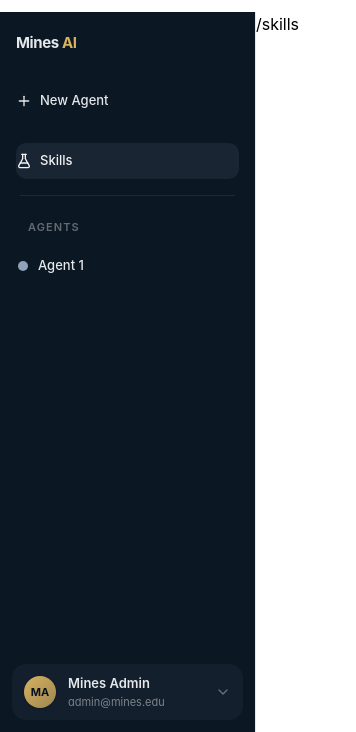
Test: AppSidebar › creates an agent and navigates to it
Click the button "New Agent".
click(128, 100)  # box top-left (16, 82), bottom-right (239, 118)
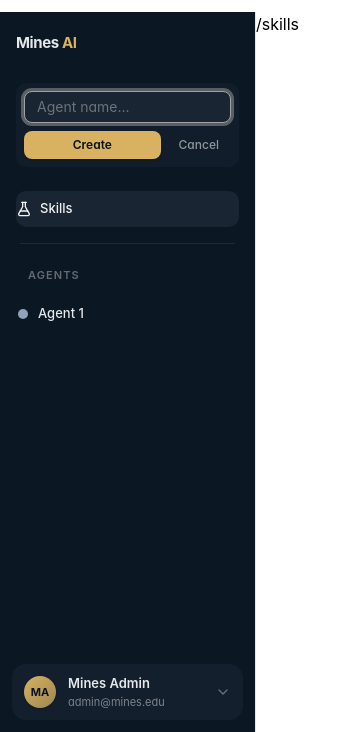
Type "New Agent" into the field with placeholder "Agent name...".
click(128, 106); type("New Agent")  # box top-left (24, 90), bottom-right (231, 122)
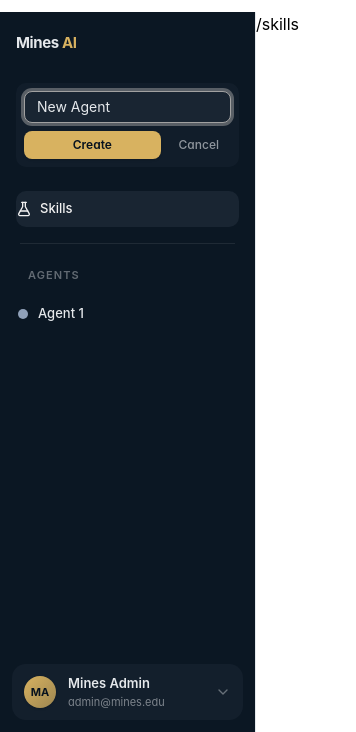
Click the button "Create".
click(92, 144)  # box top-left (24, 130), bottom-right (161, 158)
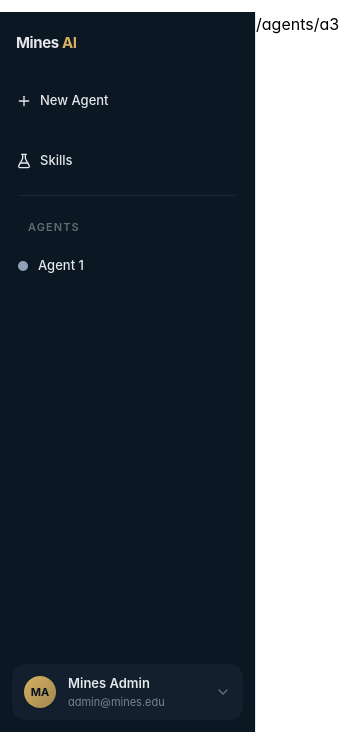
Now the text with test id "location" reads "/agents/a3", box top-left (256, 14), bottom-right (339, 34)
